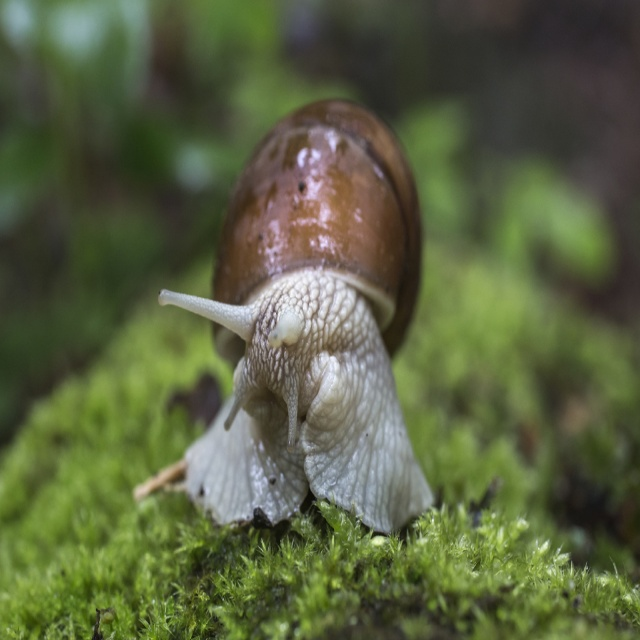Snail: (132, 98, 434, 537)
